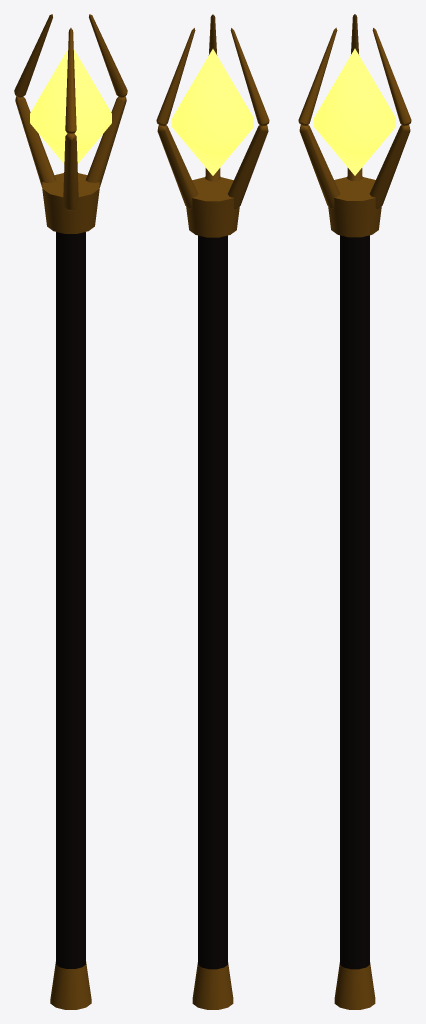
Rendered from Arma_VarinhaAmbar.fbx.
3 views of the same model, side by side, from view 1: azimuth 30°, elevation 25°; view 2: azimuth 210°, elevation 25°; view 3: azimuth 330°, elevation 25° (orthographic).
Parts seen in each view (by area): view 1: Piece; view 2: Piece; view 3: Piece.
Boxes of the visible parts, box(x1,y1,x2,y2) form: Piece: box(14, 14, 127, 1009); Piece: box(156, 14, 269, 1009); Piece: box(298, 14, 411, 1009).
Bounding box in the file's own units: 0.1486 × 1.53 × 0.1603.
